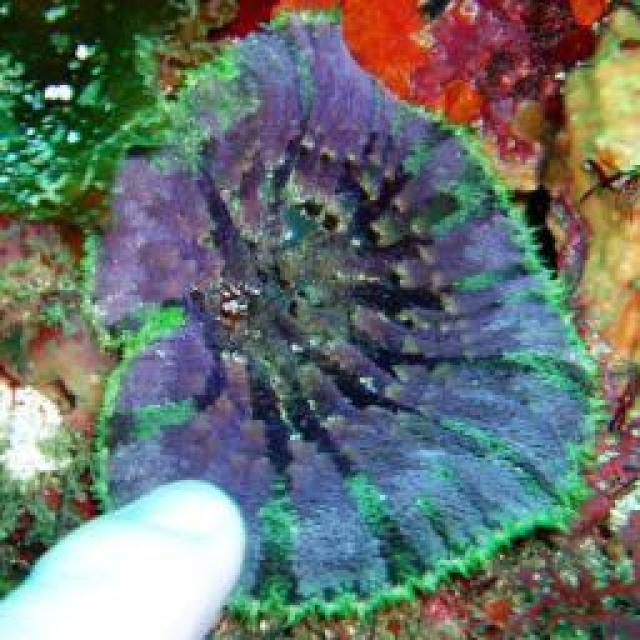reefs: (79, 8, 615, 615), (0, 480, 248, 637)
